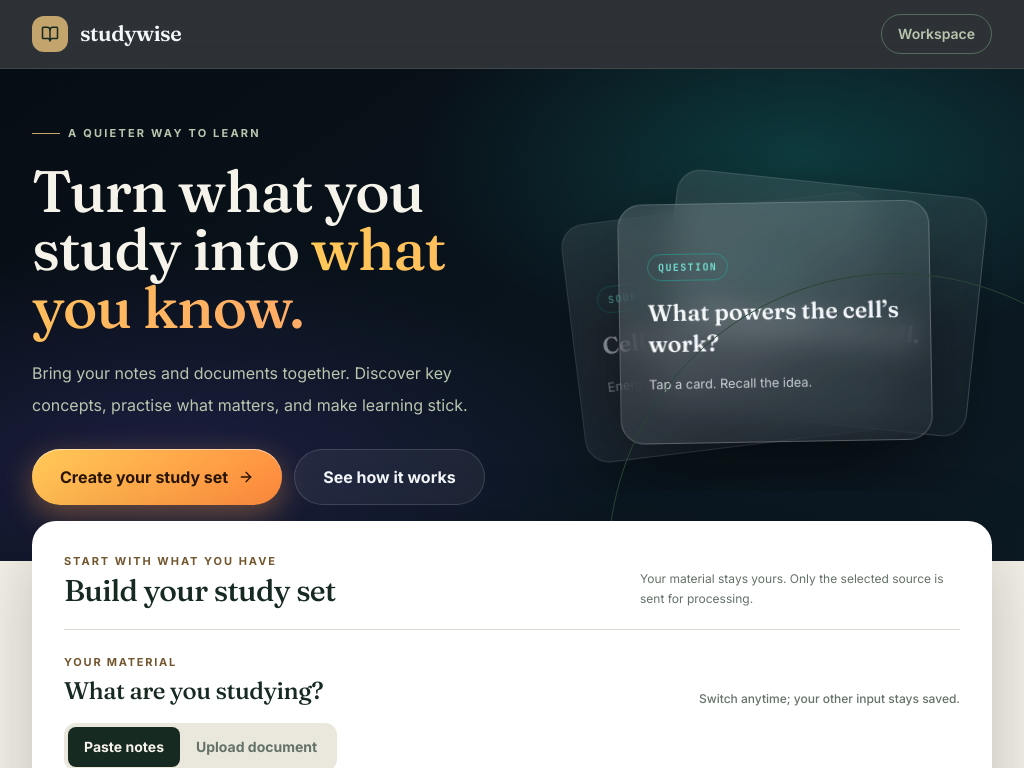
Scenario: Studywise creation screen › shows the 100-page PDF limit before a document is selected
Click the tab "Upload document": [257, 747] box [180, 727, 333, 767]
(page scrolled)
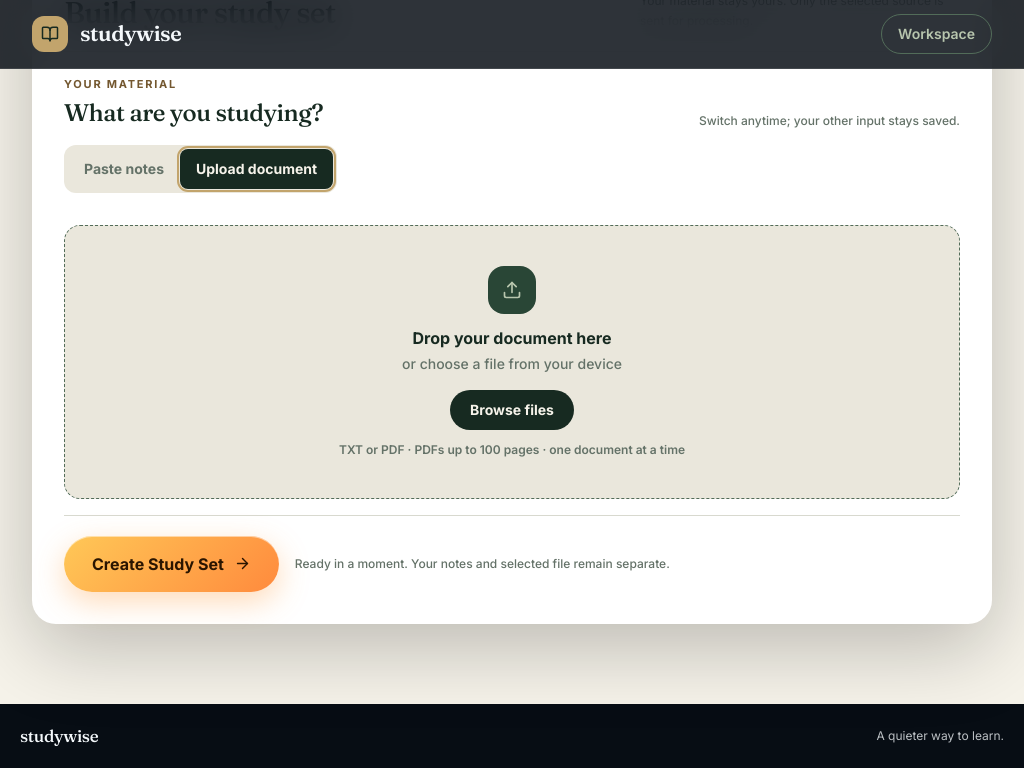
Result: the text "TXT or PDF · PDFs up to 100 pages · one document at a time" is shown at [339, 442, 685, 457]
